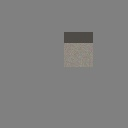supply_truck: (64, 32, 93, 67)
